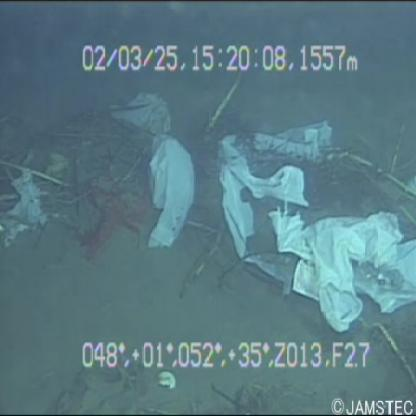Rác: (207, 112, 416, 339), (120, 94, 198, 258)
